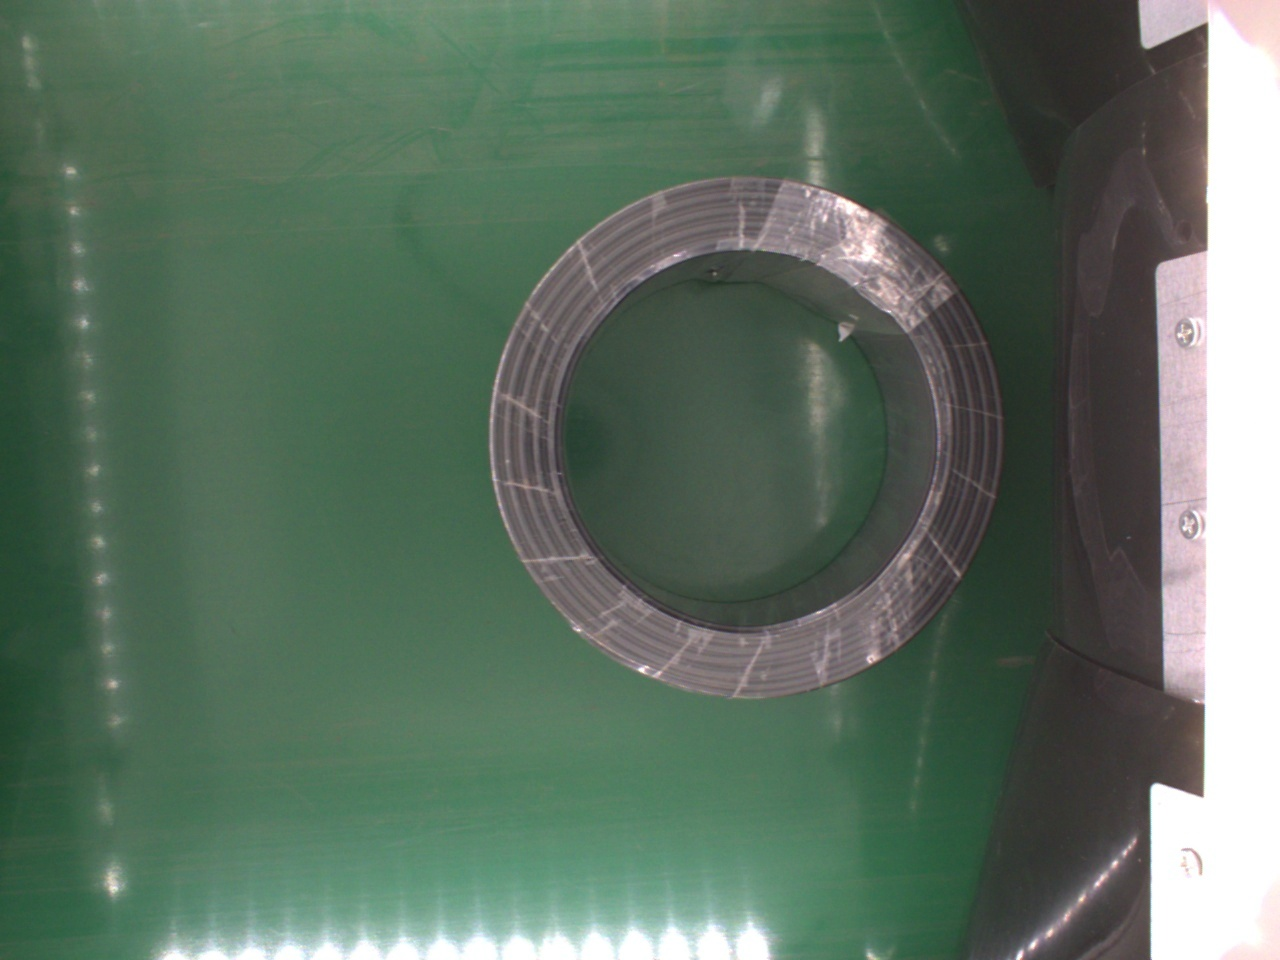black: (487, 179, 1008, 696)
